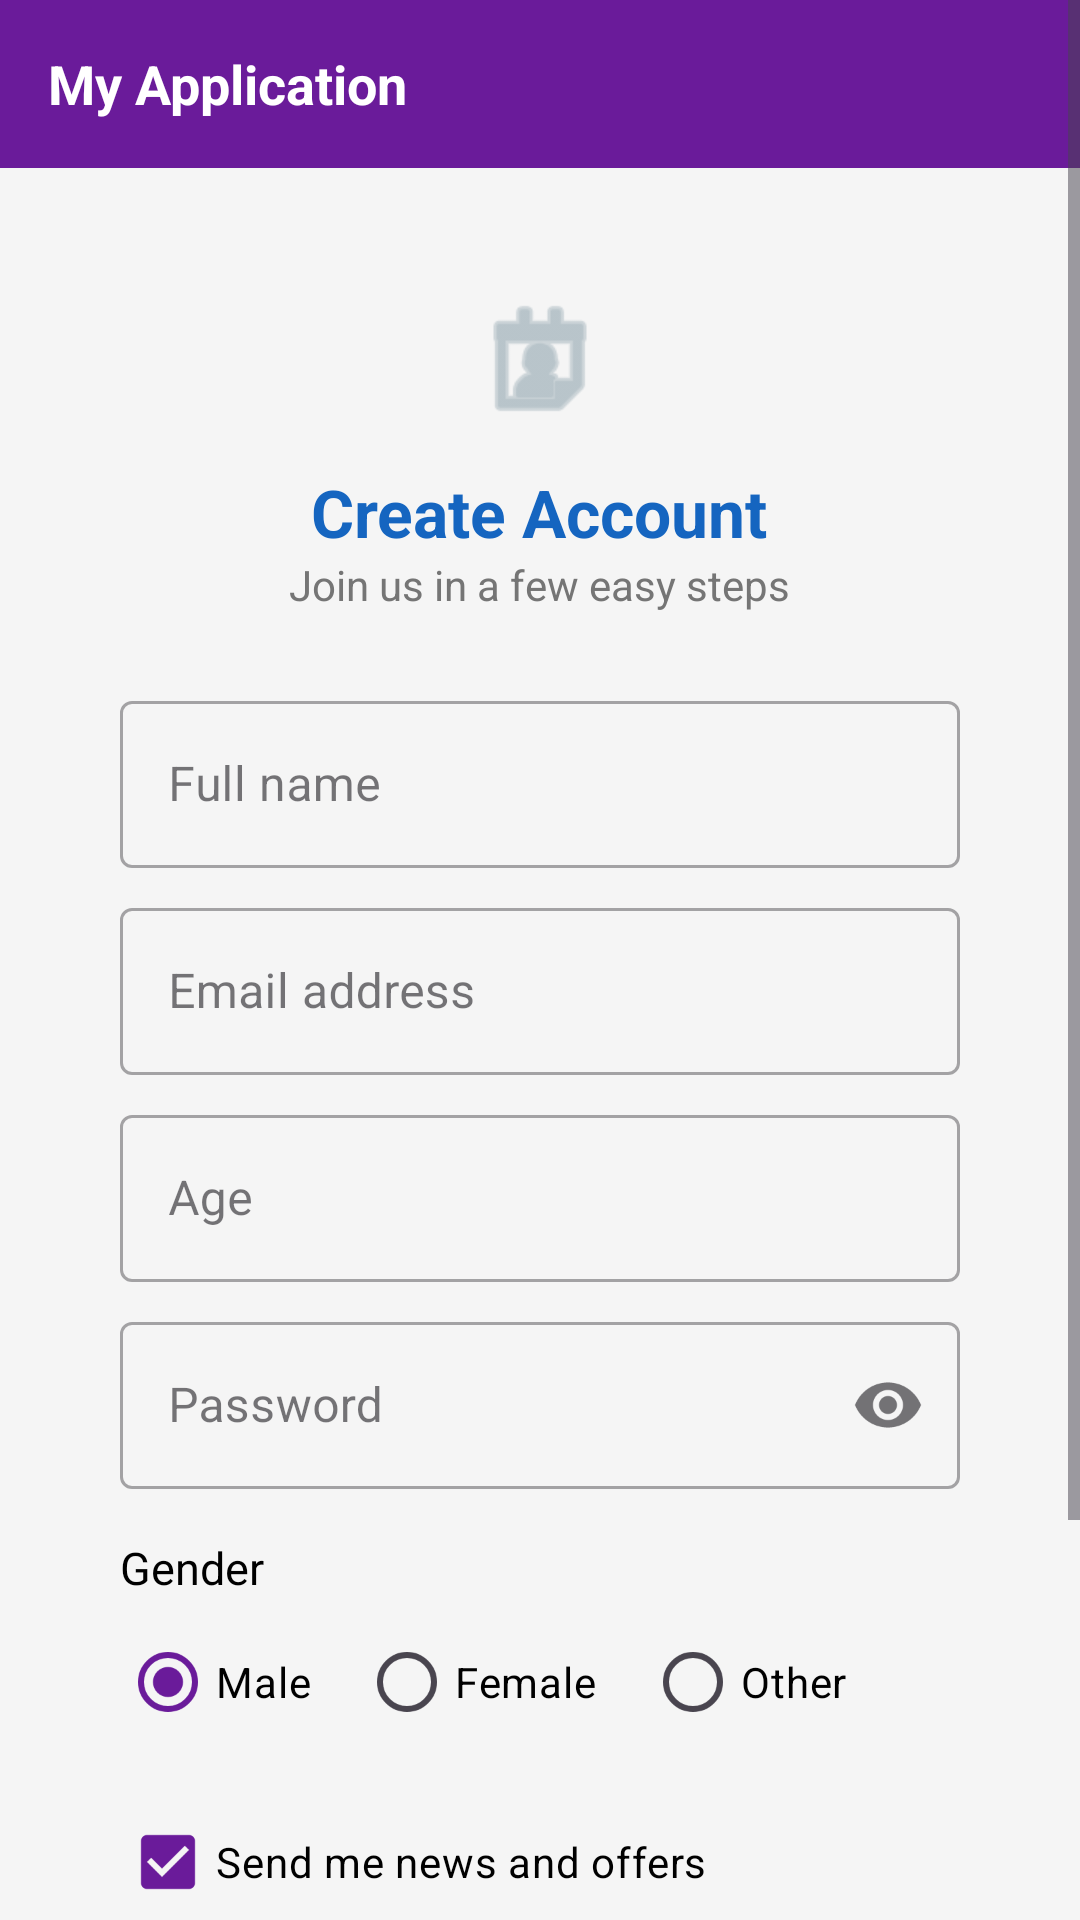

Icons on this 1080px×1920px Android screen, each with the point to tap as [x,y]:
People icon: [540,358]
